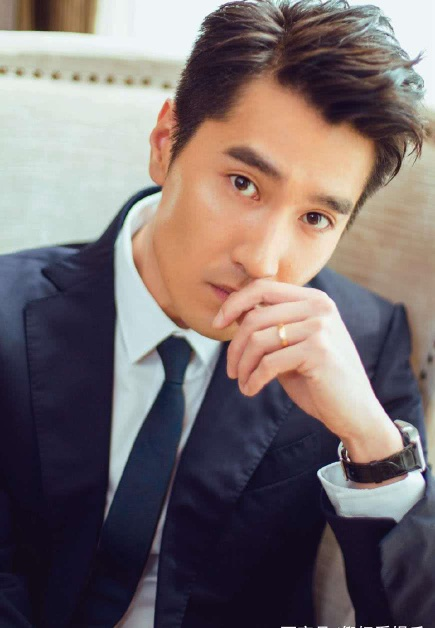male: (140, 1, 432, 358)
